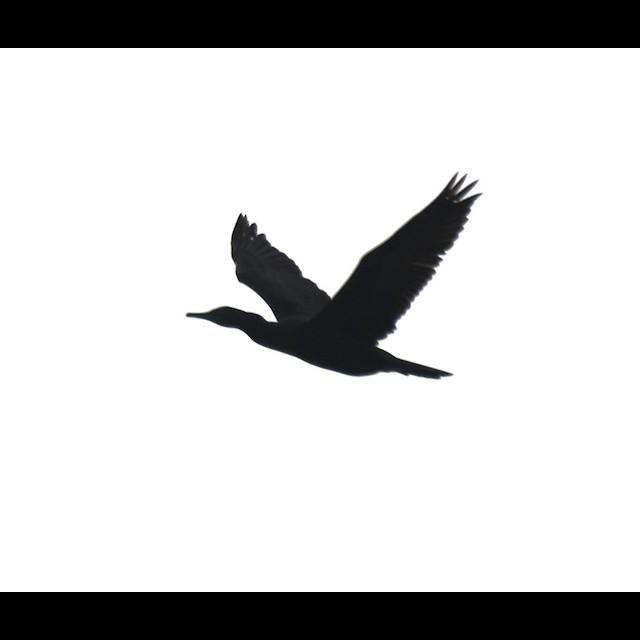cormorant: (174, 162, 496, 386)
